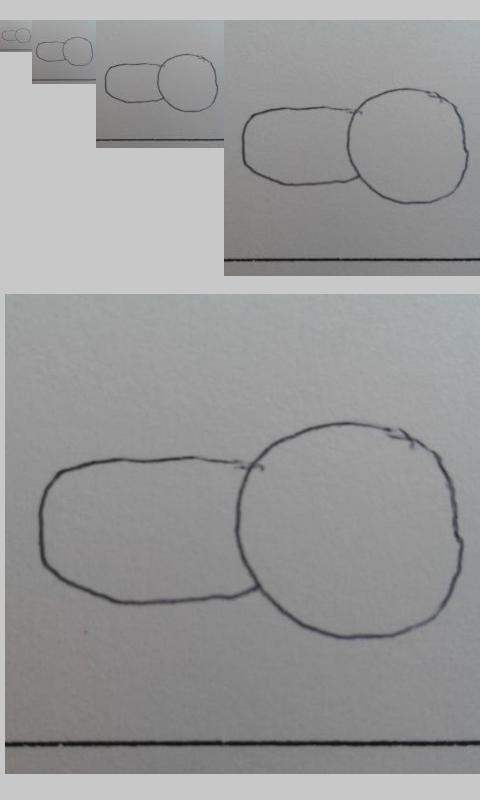switch: (36, 421, 467, 641), (241, 87, 469, 205), (104, 53, 218, 113), (35, 36, 94, 67), (1, 28, 32, 43)
